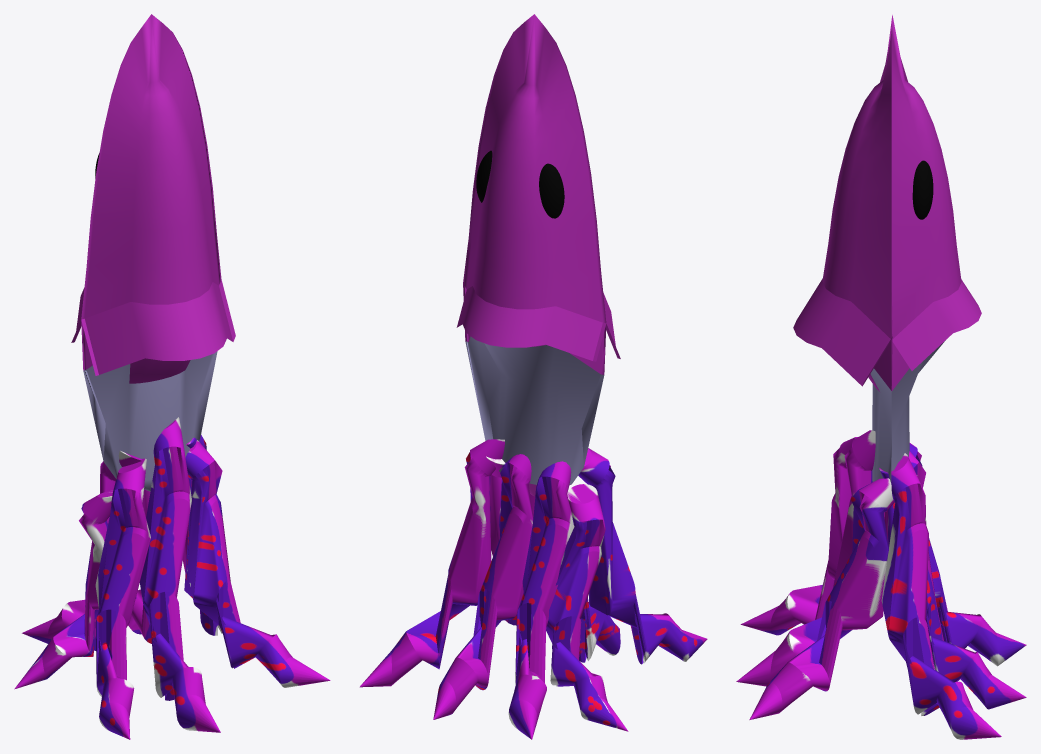
The model's file is clamar(2).fbx.
3 views of the same model, side by side, from view 1: azimuth 30°, elevation 25°; view 2: azimuth 150°, elevation 25°; view 3: azimuth 270°, elevation 25° (orthographic).
Parts seen in each view (by area): view 1: cabeza, tenta_2, tenta_1, tenta_0, medio, tenta_5, tenta_4, tenta_3, tenta_6; view 2: cabeza, medio, tenta_4, tenta_3, tenta_6, tenta_5, tenta_1, tenta_2, ojo_der, tenta_0; view 3: cabeza, tenta_6, tenta_0, tenta_1, tenta_2, tenta_3, medio, tenta_4, ojoiqz.
Part boxes in pixels (bbox=[...]): cabeza: bbox=[71, 14, 235, 383]; tenta_2: bbox=[139, 417, 220, 732]; tenta_1: bbox=[95, 458, 150, 739]; tenta_0: bbox=[184, 440, 330, 687]; medio: bbox=[83, 351, 217, 491]; tenta_5: bbox=[14, 490, 113, 689]; tenta_4: bbox=[22, 451, 142, 650]; tenta_3: bbox=[128, 489, 151, 643]; tenta_6: bbox=[182, 434, 221, 635]; cabeza: bbox=[456, 14, 620, 496]; medio: bbox=[465, 336, 604, 485]; tenta_4: bbox=[508, 461, 574, 739]; tenta_3: bbox=[433, 454, 533, 719]; tenta_6: bbox=[359, 439, 504, 687]; tenta_5: bbox=[546, 484, 628, 731]; tenta_1: bbox=[578, 448, 707, 664]; tenta_2: bbox=[530, 494, 620, 662]; ojo_der: bbox=[539, 163, 564, 218]; tenta_0: bbox=[486, 456, 516, 625]; cabeza: bbox=[793, 15, 981, 391]; tenta_6: bbox=[879, 453, 1001, 739]; tenta_0: bbox=[749, 475, 917, 719]; tenta_1: bbox=[740, 437, 857, 635]; tenta_2: bbox=[736, 430, 875, 686]; tenta_3: bbox=[908, 451, 1026, 709]; medio: bbox=[870, 340, 945, 481]; tenta_4: bbox=[909, 443, 1026, 666]; ojoiqz: bbox=[912, 160, 933, 219].
Bounding box in the file's own units: 4.89 × 13.38 × 5.18.
Materials: 5 (1 with a texture image).
